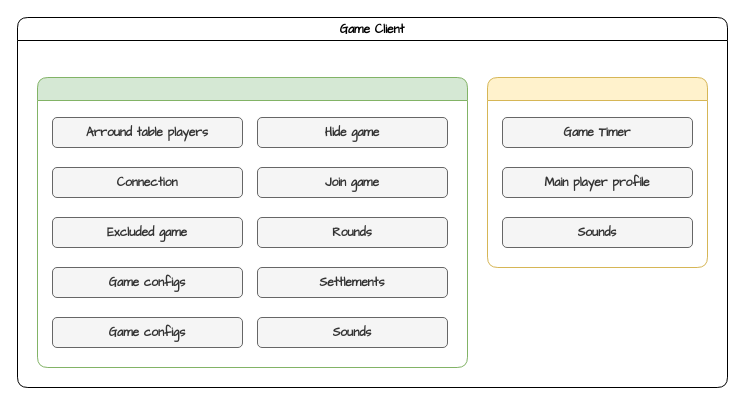
This 745x405 diagram has some shape labels left out. The shapes that lost their labels are listed below. From the top down, each one's box as (x1, y1, x2, y2) in pixels, then its label:
(486, 76, 708, 268): Components
(36, 76, 468, 368): Stores and Handlers
